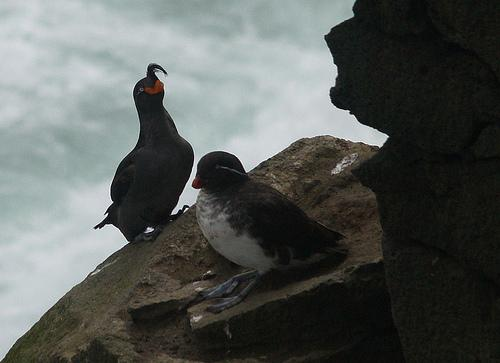005.Crested_Auklet: (92, 62, 195, 247)
